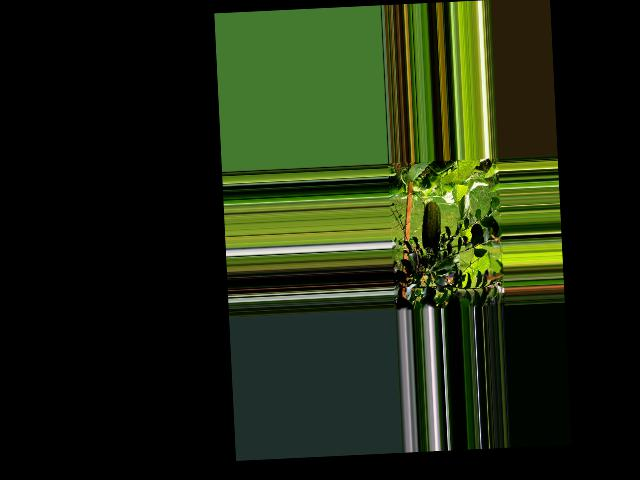cucumber: (419, 201, 441, 254)
